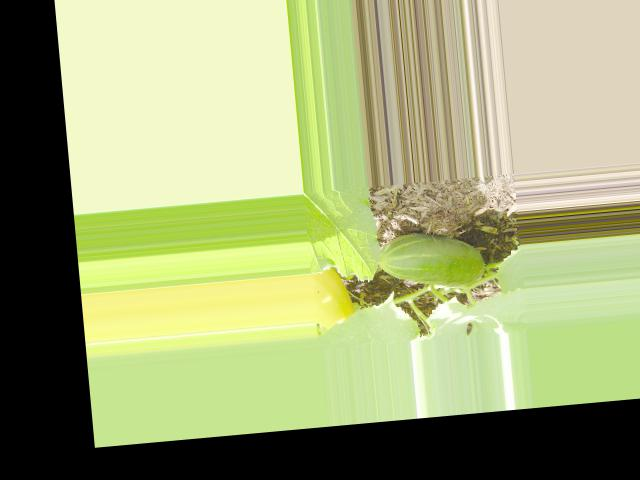cucumber: (376, 226, 487, 293)
